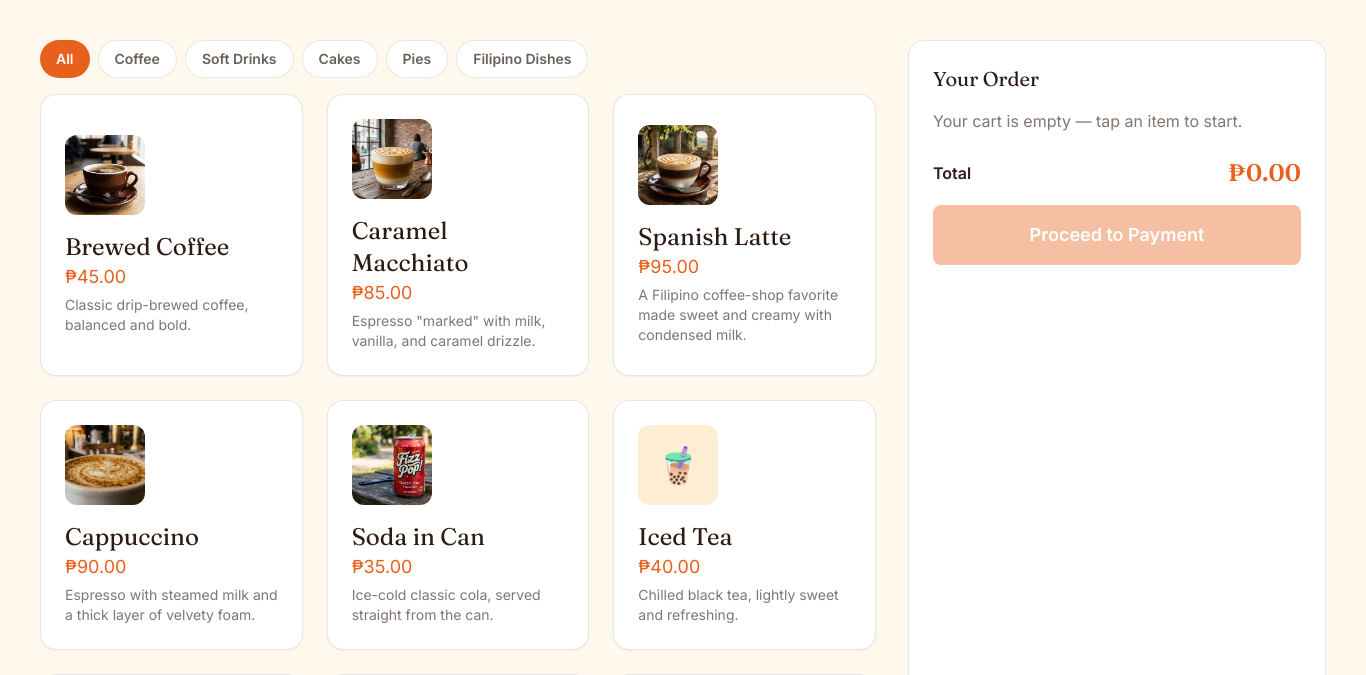
Test: OrderScreen category filters › filters to only the selected category
Step 1. Click the button "Pies" → (417, 59), box [386,40,448,78]
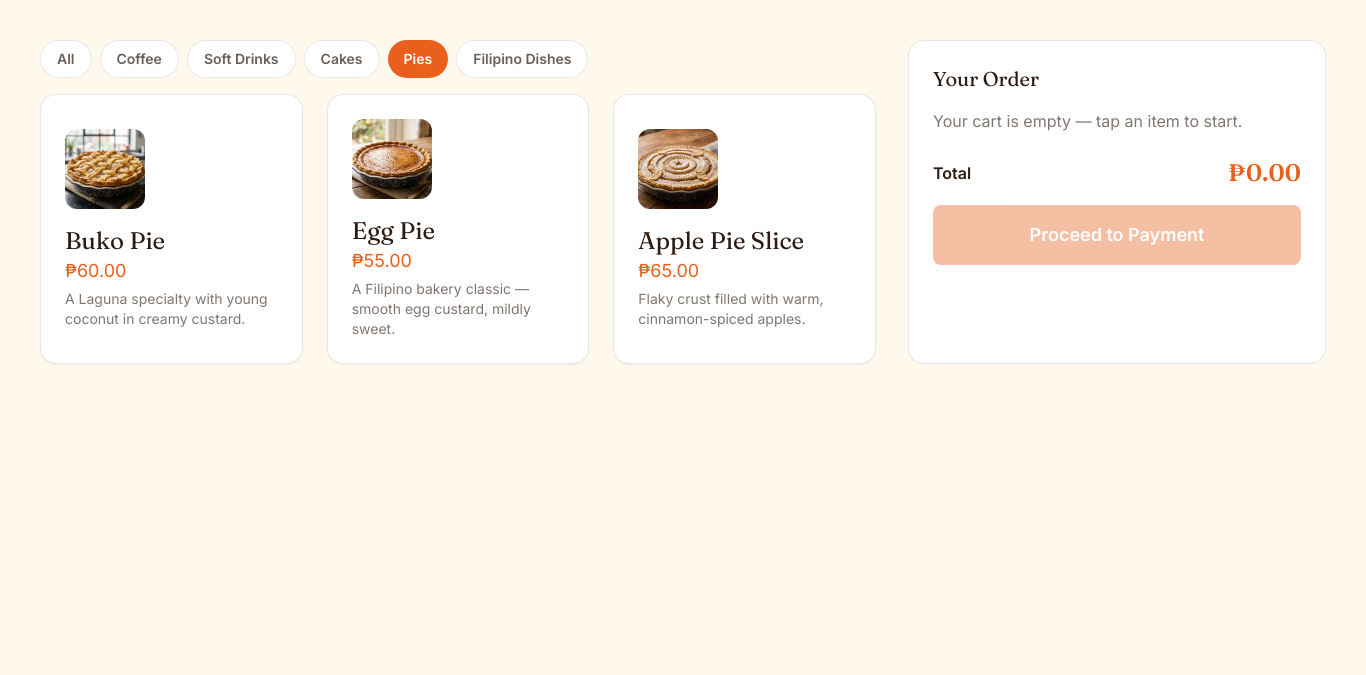
Expected: the button "Buko Pie" is shown, [40,94,303,364]
Result: the button "Brewed Coffee" is gone
